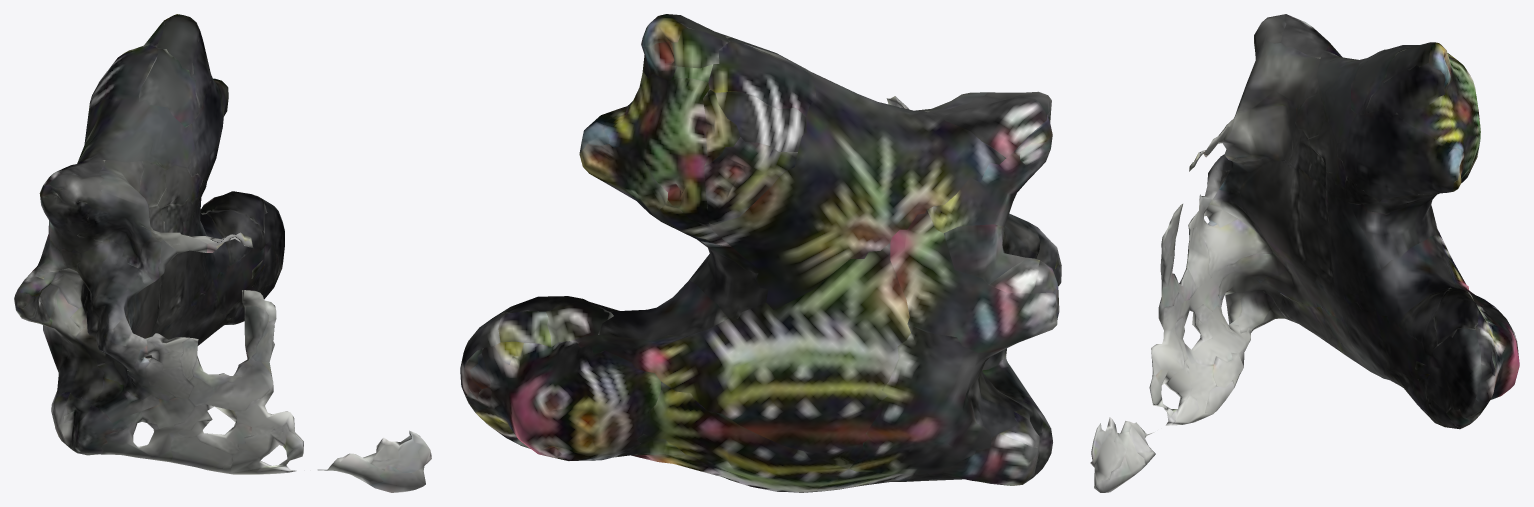
The model's file is hall.glb.
The picture shows the model from 3 angles, left to right: view 1: azimuth 30°, elevation 25°; view 2: azimuth 150°, elevation 25°; view 3: azimuth 270°, elevation 25°; orthographic projection. The views are drawn at different scales.
Bounding box in the file's own units: 0.7971 × 0.8537 × 0.8119.
Materials: 1 (1 with a texture image).
